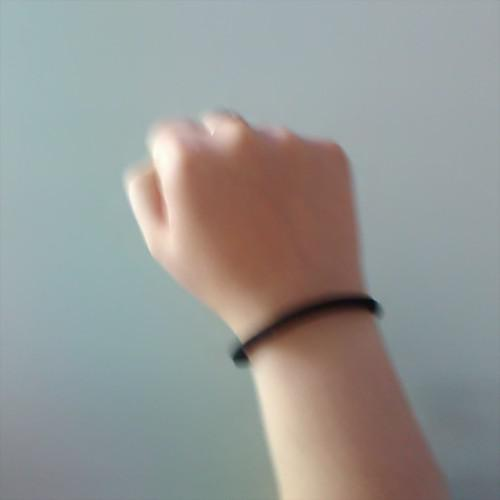rock: (109, 77, 391, 358)
